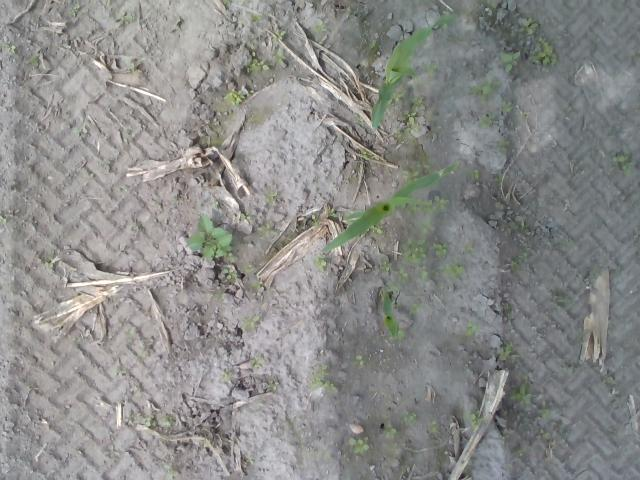Maize: (321, 156, 462, 258), (372, 14, 454, 131), (382, 289, 400, 340)
Weeds: (183, 212, 233, 262), (391, 92, 426, 140), (402, 238, 432, 264), (532, 36, 558, 66), (309, 366, 336, 392), (512, 382, 536, 406), (468, 80, 492, 102), (501, 51, 522, 74), (612, 154, 632, 174), (348, 436, 370, 454), (143, 415, 171, 428), (509, 252, 528, 271), (240, 314, 262, 330), (520, 16, 538, 34), (224, 90, 244, 106), (465, 408, 481, 428), (249, 58, 270, 72), (498, 342, 514, 360), (418, 218, 432, 238), (256, 224, 274, 238), (442, 265, 464, 276), (432, 194, 448, 209), (467, 168, 481, 184), (479, 113, 493, 128), (313, 256, 327, 271), (432, 243, 448, 256), (400, 411, 416, 424), (163, 463, 175, 480), (418, 267, 432, 281), (396, 269, 410, 283), (496, 142, 512, 154), (462, 241, 478, 253), (500, 100, 513, 114), (377, 260, 391, 273), (423, 64, 438, 76), (273, 29, 287, 41), (352, 354, 366, 366), (539, 404, 550, 418), (250, 357, 264, 368), (209, 293, 226, 302), (266, 192, 278, 204), (222, 268, 234, 280), (240, 212, 252, 224), (69, 5, 80, 18), (466, 322, 476, 336), (386, 426, 397, 438), (275, 52, 286, 64), (359, 151, 371, 162), (326, 207, 338, 218), (371, 226, 384, 236), (312, 23, 324, 33), (5, 44, 16, 54), (72, 126, 82, 137), (411, 304, 422, 314), (252, 14, 264, 23), (606, 376, 616, 386), (431, 420, 439, 432), (221, 371, 231, 380), (244, 264, 254, 272), (252, 280, 262, 286), (126, 15, 134, 20)
